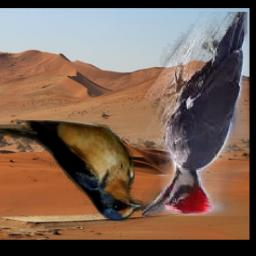Swallow: (0, 121, 144, 222)
Woodpecker: (142, 12, 247, 216)
